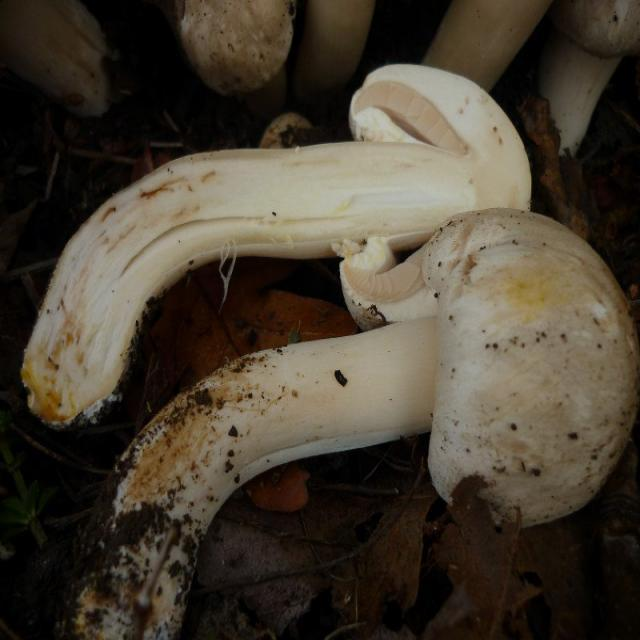Agaricus bisporus: (82, 212, 640, 640), (34, 63, 523, 399)
